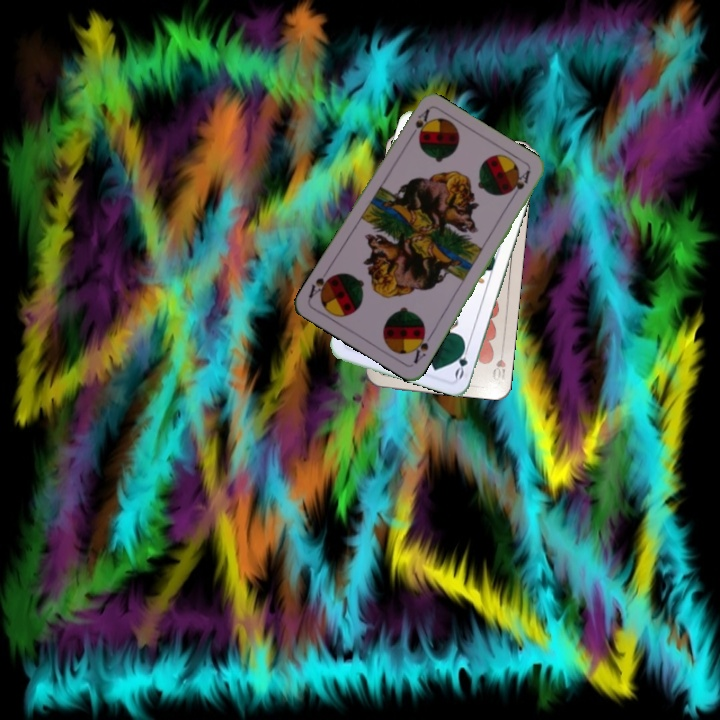GO: (451, 340, 472, 381)
H10: (488, 344, 508, 385)
SA: (408, 327, 435, 367), (405, 106, 432, 142)
